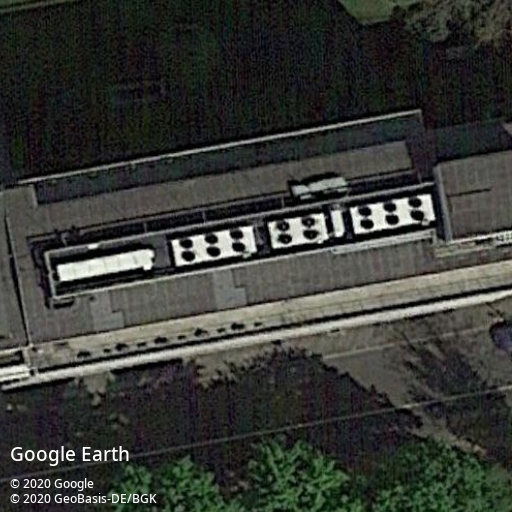Chiller: (170, 224, 257, 268), (349, 193, 436, 235), (268, 212, 329, 251)
